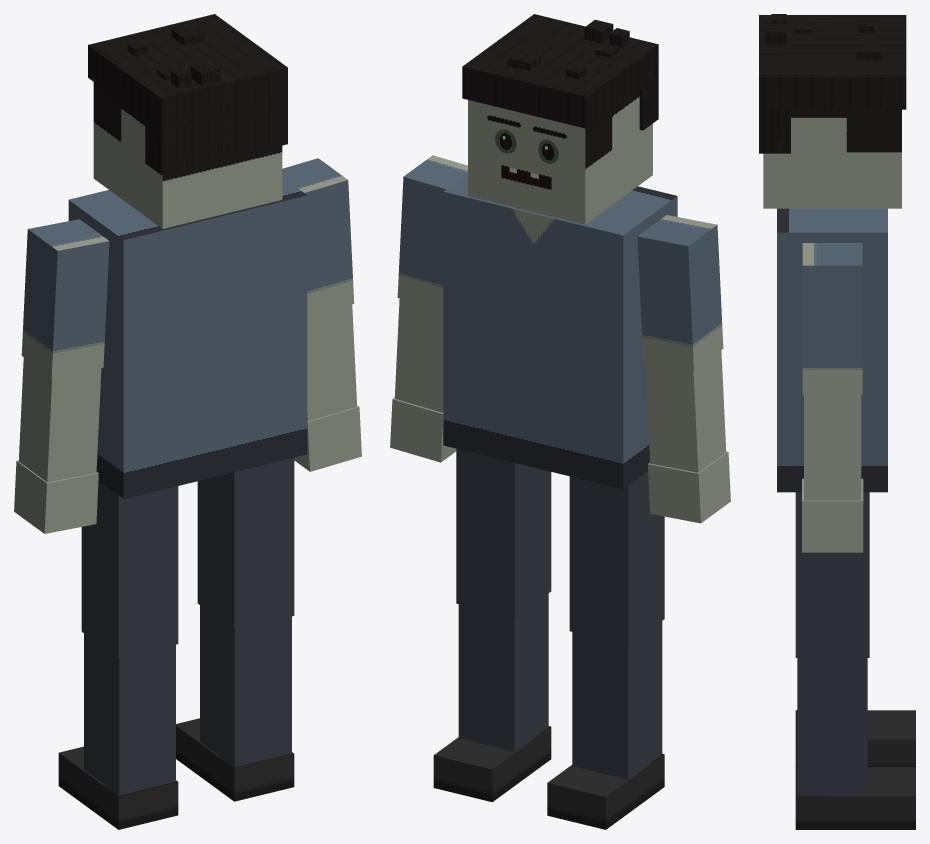
The model's file is hair_messy.glb.
3 views of the same model, side by side, from view 1: azimuth 30°, elevation 25°; view 2: azimuth 150°, elevation 25°; view 3: azimuth 270°, elevation 25° (orthographic). The views are drawn at different scales.
Visible parts, largest first — view 1: block_torso, block_thigh.L, block_thigh.R, block_hair-cap, block_head, block_shin.L, block_shin.R, block_upper_arm.L, block_forearm.L, block_upper_arm.R, block_hair-back, block_forearm.R (+4 smaller); view 2: block_torso, block_head, block_thigh.L, block_thigh.R, block_hair-cap, block_shin.R, block_shin.L, block_upper_arm.L, block_forearm.L, block_upper_arm.R, block_foot.R, block_foot.L (+4 smaller); view 3: block_torso, block_head, block_hair-cap, block_shin.R, block_upper_arm.R, block_thigh.R, block_forearm.R, block_foot.R, block_hand.R, block_foot.L, block_hair-back, block_hair-tuft (×2).
Boxes of the visible parts, x1=… form: block_torso: x1=68, y1=177, x2=307, y2=498; block_thigh.L: x1=81, y1=481, x2=178, y2=658; block_thigh.R: x1=197, y1=458, x2=294, y2=630; block_hair-cap: x1=88, y1=14, x2=287, y2=130; block_head: x1=93, y1=82, x2=282, y2=228; block_shin.L: x1=84, y1=633, x2=175, y2=795; block_shin.R: x1=200, y1=605, x2=291, y2=766; block_upper_arm.L: x1=21, y1=219, x2=109, y2=377; block_forearm.L: x1=18, y1=357, x2=101, y2=482; block_upper_arm.R: x1=282, y1=158, x2=354, y2=317; block_hair-back: x1=145, y1=98, x2=287, y2=174; block_forearm.R: x1=307, y1=304, x2=357, y2=421; block_torso: x1=443, y1=174, x2=677, y2=489; block_head: x1=468, y1=90, x2=652, y2=224; block_thigh.L: x1=569, y1=471, x2=664, y2=645; block_thigh.R: x1=456, y1=448, x2=551, y2=617; block_hair-cap: x1=462, y1=14, x2=658, y2=128; block_shin.R: x1=458, y1=593, x2=548, y2=751; block_shin.L: x1=572, y1=621, x2=662, y2=779; block_upper_arm.L: x1=637, y1=215, x2=723, y2=369; block_forearm.L: x1=645, y1=350, x2=726, y2=472; block_upper_arm.R: x1=397, y1=155, x2=467, y2=311; block_foot.R: x1=433, y1=726, x2=551, y2=802; block_foot.L: x1=547, y1=753, x2=664, y2=829; block_torso: x1=777, y1=208, x2=887, y2=492; block_head: x1=763, y1=109, x2=901, y2=208; block_hair-cap: x1=759, y1=15, x2=906, y2=109; block_shin.R: x1=797, y1=658, x2=867, y2=795; block_upper_arm.R: x1=802, y1=243, x2=862, y2=394; block_thigh.R: x1=795, y1=492, x2=869, y2=657; block_forearm.R: x1=804, y1=394, x2=861, y2=500; block_foot.R: x1=795, y1=767, x2=915, y2=829; block_hand.R: x1=802, y1=478, x2=863, y2=552; block_foot.L: x1=795, y1=710, x2=915, y2=766; block_hair-back: x1=759, y1=107, x2=790, y2=153; block_hair-tuft (×2): x1=765, y1=23, x2=880, y2=59.
Size of the model in its own units: 0.7948 by 1.8 by 0.339.
Materials: 1 (1 with a texture image).
